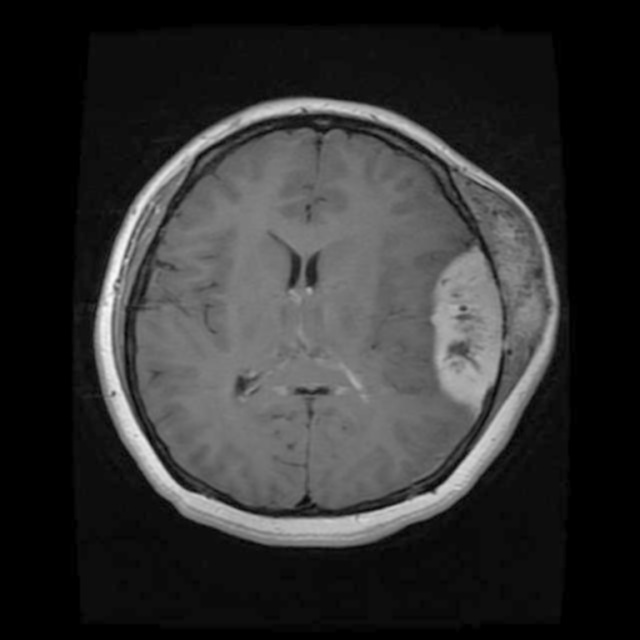meningioma tumor: (384, 235, 510, 411)
